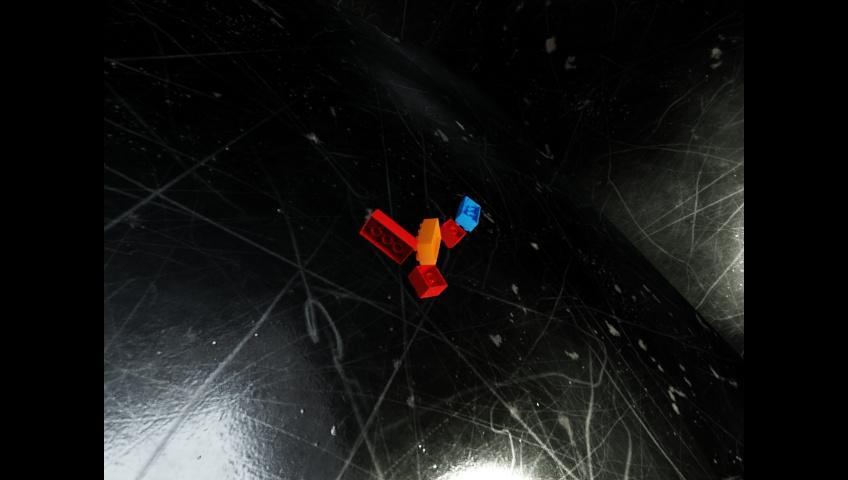2x2_red: (407, 264, 446, 297), (440, 219, 466, 248)
4x2_blue: (456, 197, 480, 232)
4x2_orange: (414, 218, 440, 265)
4x2_red: (359, 208, 418, 264)
